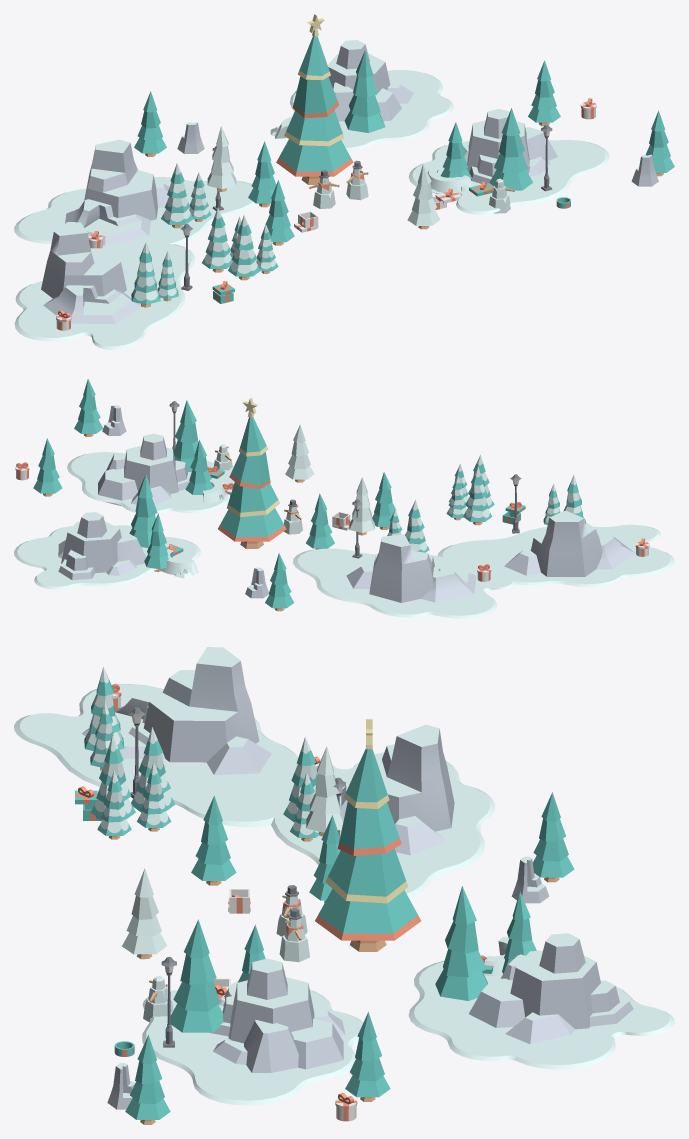
Rendered from xmas.glb.
The picture shows the model from 3 angles, top to bottom: view 1: azimuth 30°, elevation 25°; view 2: azimuth 150°, elevation 25°; view 3: azimuth 270°, elevation 25°; orthographic projection. The views are drawn at different scales.
Visible parts, largest first — view 1: rockFormationLarge.001, snowPatch.003, rockFormationLarge, treeDecorated, snowPatch.001, snowPatch, snowPatch.002, rockFormationMedium, rockFormationMedium.001, treePine.003, treePine.001, treePineSnowRound.004 (+20 smaller); view 2: snowPatch.001, snowPatch.003, rockFormationLarge, rockFormationLarge.001, treeDecorated, rockFormationMedium, rockFormationMedium.001, snowPatch.002, snowPatch, treePine.003, treePine.001, treePine.005 (+17 smaller); view 3: rockFormationLarge.001, treeDecorated, snowPatch.003, rockFormationMedium.001, rockFormationMedium, snowPatch.002, snowPatch, rockFormationLarge, snowPatch.001, treePine.001, treePine.003, treePineSnowed.001 (+20 smaller).
Part boxes in pixels (box(x1,y1,x2,y2)): rockFormationLarge.001: box(41, 222, 140, 323); snowPatch.003: box(14, 243, 194, 349); rockFormationLarge: box(65, 139, 169, 245); treeDecorated: box(276, 36, 353, 184); snowPatch.001: box(14, 177, 255, 254); snowPatch: box(408, 140, 609, 214); snowPatch.002: box(290, 70, 453, 151); rockFormationMedium: box(462, 109, 557, 186); rockFormationMedium.001: box(327, 40, 413, 121); treePine.003: box(344, 50, 385, 132); treePine.001: box(489, 108, 532, 190); treePineSnowRound.004: box(228, 215, 260, 280); snowPatch.001: box(293, 548, 515, 618); snowPatch.003: box(437, 524, 674, 586); rockFormationLarge: box(346, 534, 476, 602); rockFormationLarge.001: box(504, 510, 635, 576); treeDecorated: box(218, 417, 286, 548); rockFormationMedium: box(98, 433, 191, 506); rockFormationMedium.001: box(58, 512, 145, 580); snowPatch.002: box(14, 525, 200, 589); snowPatch: box(67, 452, 234, 513); treePine.003: box(129, 473, 157, 547); treePine.001: box(173, 400, 198, 471); treePine.005: box(33, 438, 62, 496); rockFormationLarge.001: box(82, 647, 271, 774); treeDecorated: box(315, 748, 421, 951); snowPatch.003: box(14, 684, 298, 827); rockFormationMedium.001: box(469, 933, 633, 1044); rockFormationMedium: box(209, 958, 345, 1072); snowPatch.002: box(408, 960, 674, 1069); snowPatch: box(142, 990, 363, 1105); rockFormationLarge: box(334, 724, 454, 855); snowPatch.001: box(271, 752, 494, 898); treePine.001: box(167, 919, 223, 1032); treePine.003: box(435, 886, 487, 1000); treePineSnowed.001: box(122, 868, 167, 959).
Bounding box in the file's own units: 17.24 × 4.3 × 10.9.
